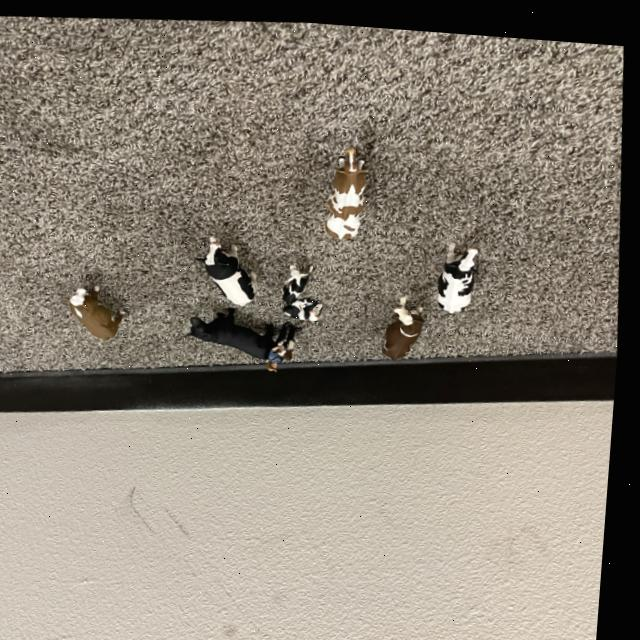cow: (190, 295, 289, 358), (197, 225, 270, 309), (323, 140, 379, 238), (67, 276, 136, 345), (380, 286, 436, 359), (436, 234, 486, 309), (280, 253, 318, 303), (287, 292, 329, 317), (281, 342, 301, 360)
person: (266, 346, 289, 368)
